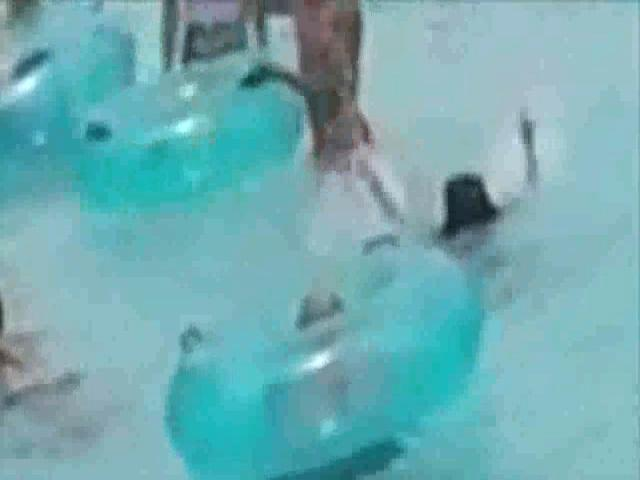drowning: (352, 103, 576, 270)
